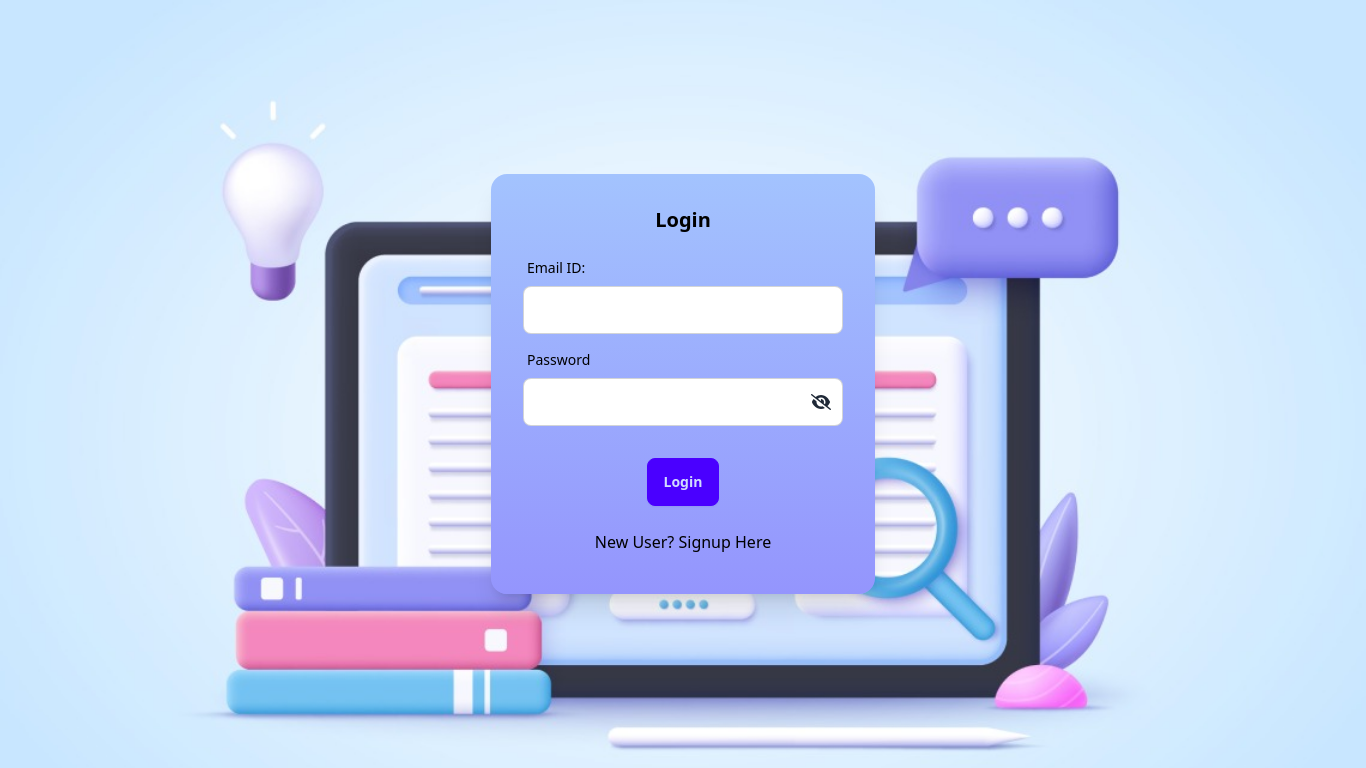
Test case: Login Component › displays specific error messages on failed login
# Simulate user input
Step 1. Type "wronguser@gmail.com" into the field with test id "email" → [683, 310], box [523, 286, 843, 334]
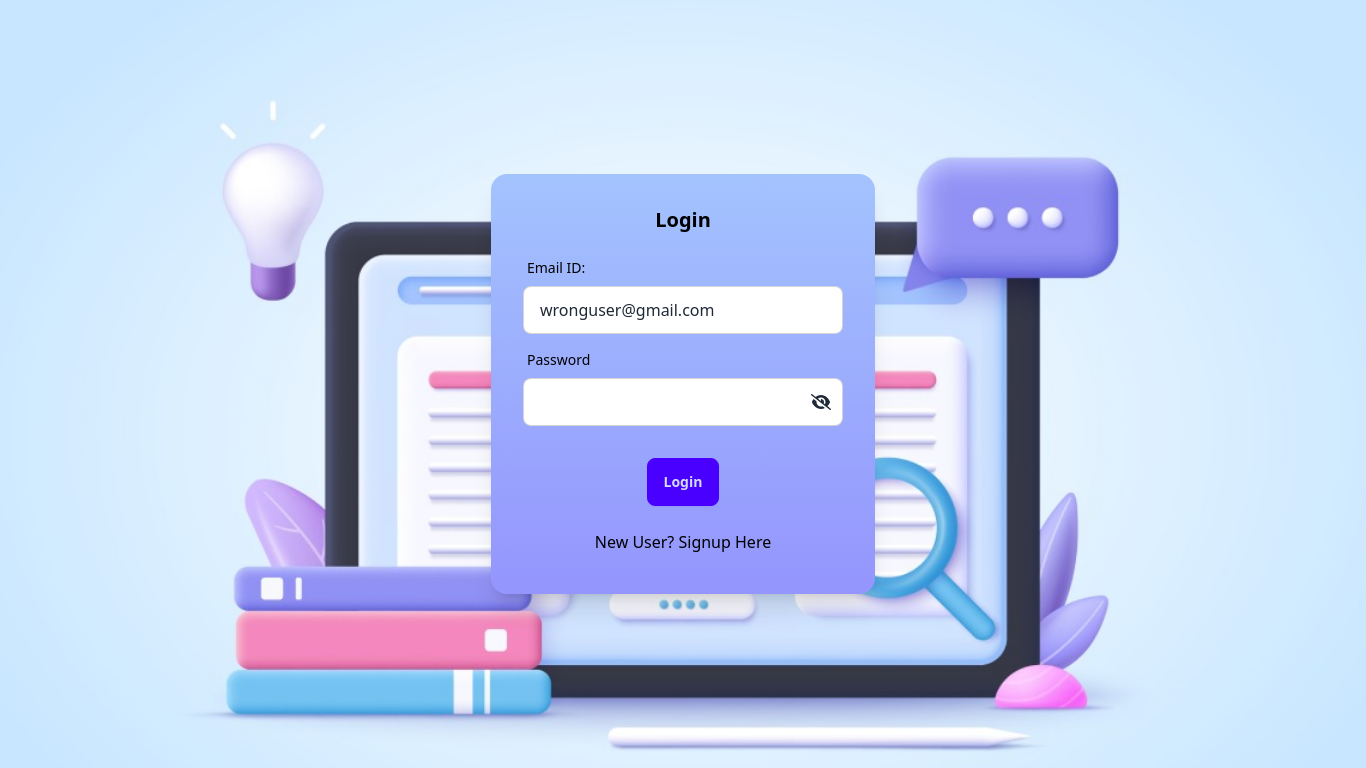
Step 2. Type "wrongpassword" into the password field with test id "password" → [683, 402], box [523, 378, 843, 426]
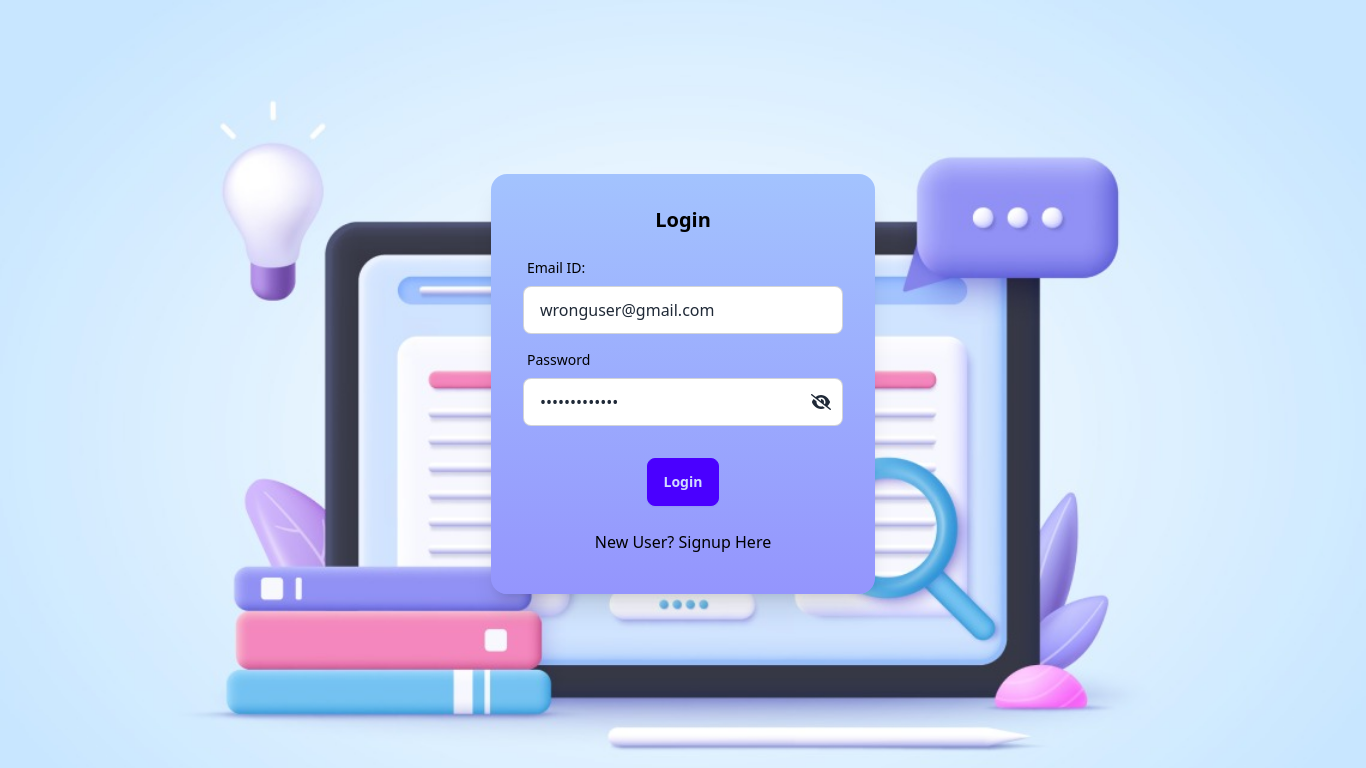
# Simulate login button click
Step 3. Click the button "Login" → [683, 482], box [646, 458, 719, 506]
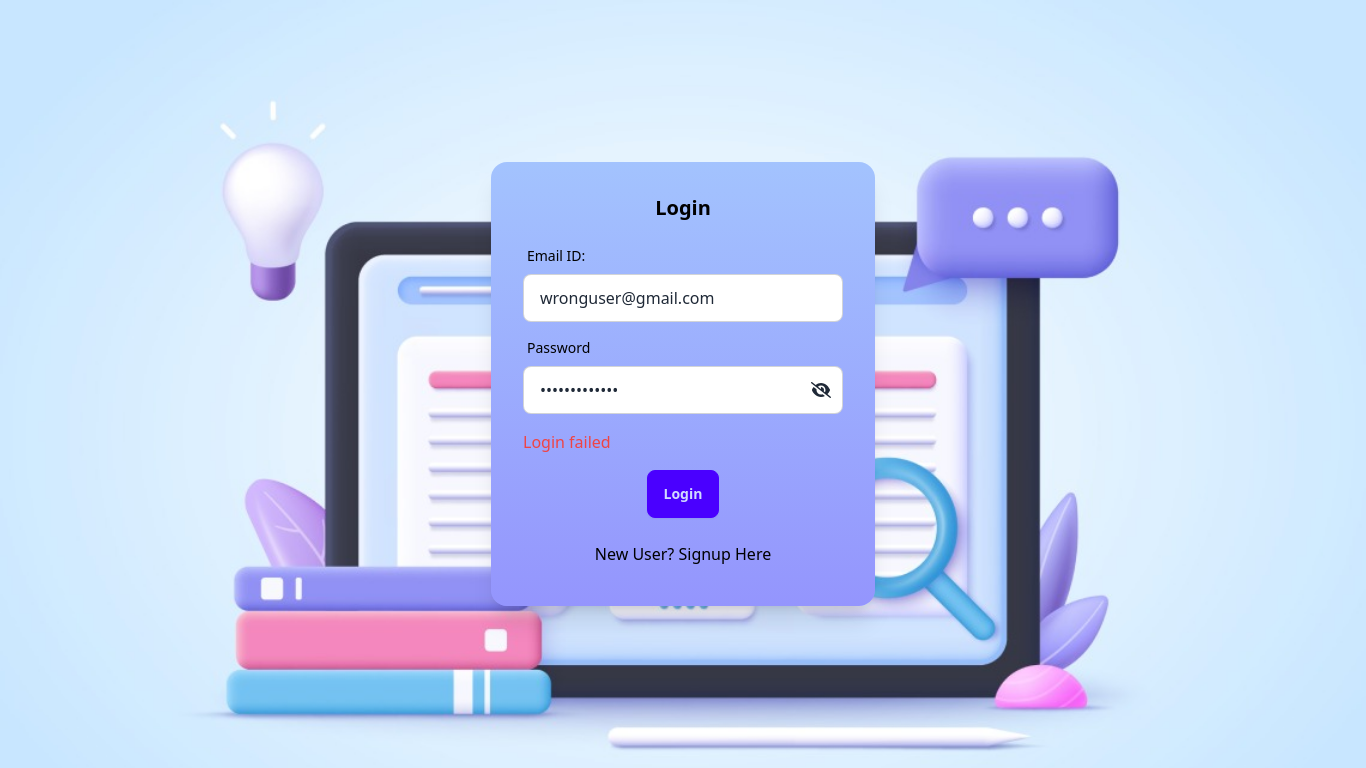
Expected: the text "Login failed" is shown, [523, 431, 611, 453]
